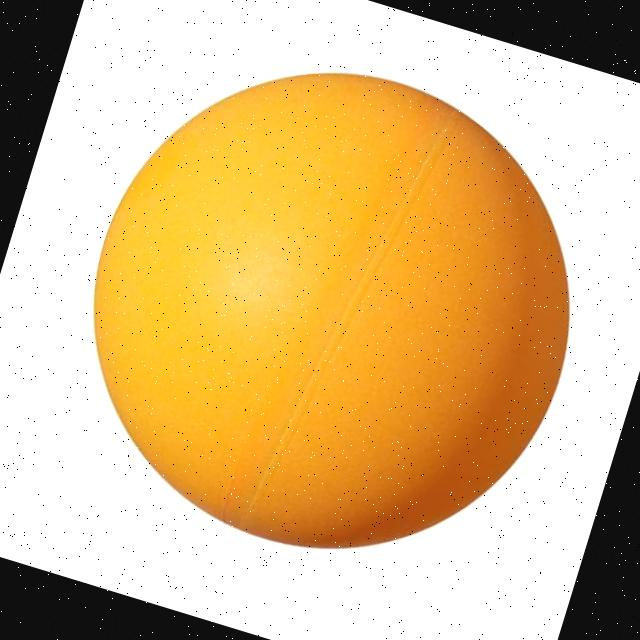ping-pong-ball: (33, 11, 629, 606)
